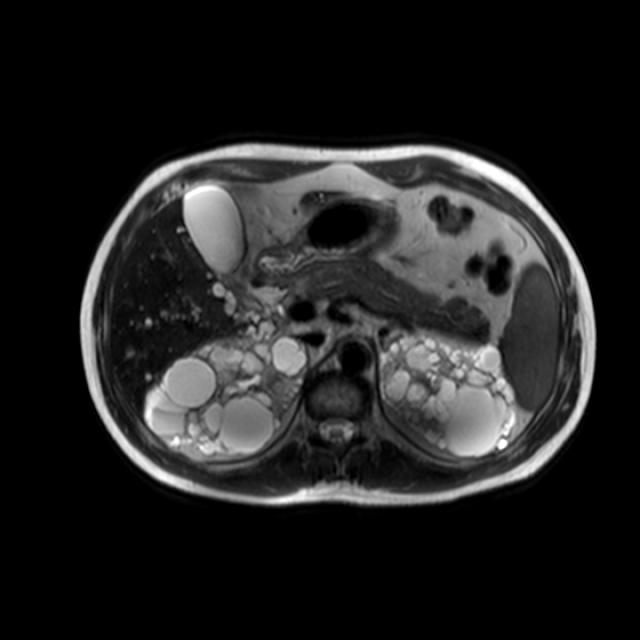sag: (142, 333, 307, 458)
sol: (377, 332, 514, 460)
